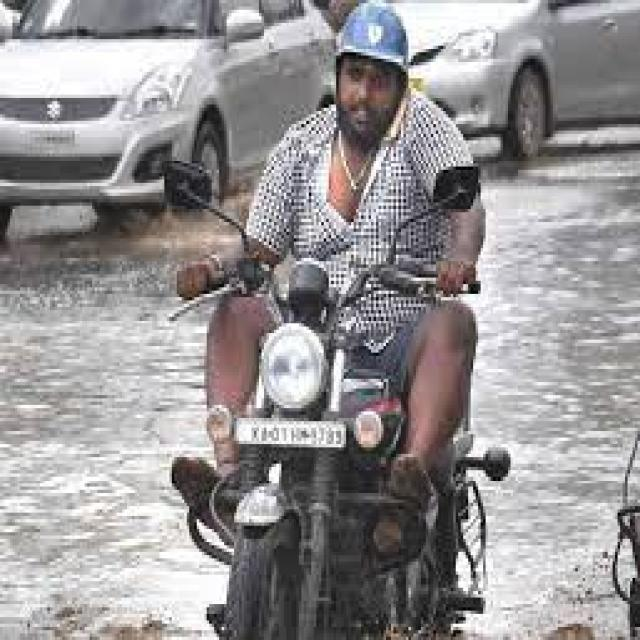USING_MOBILE: (335, 0, 416, 154)
